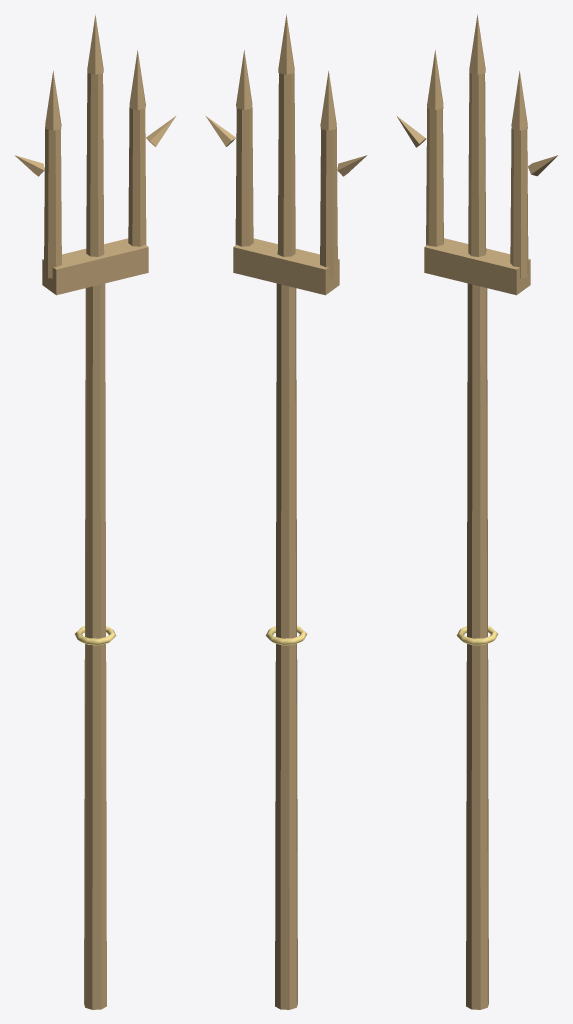
Rendered from mythic-underworld-and-olympus-trident-90867a41__21419.glb.
The picture shows the model from 3 angles, left to right: view 1: azimuth 30°, elevation 25°; view 2: azimuth 150°, elevation 25°; view 3: azimuth 330°, elevation 25°; orthographic projection.
Parts seen in each view (by area): view 1: trident; view 2: trident; view 3: trident.
Boxes of the visible parts, <box> form: trident: <box>14,14,175,1009</box>; trident: <box>206,14,367,1009</box>; trident: <box>397,14,558,1009</box>.
Bounding box in the file's own units: 0.5981 × 3.48 × 0.1274.
